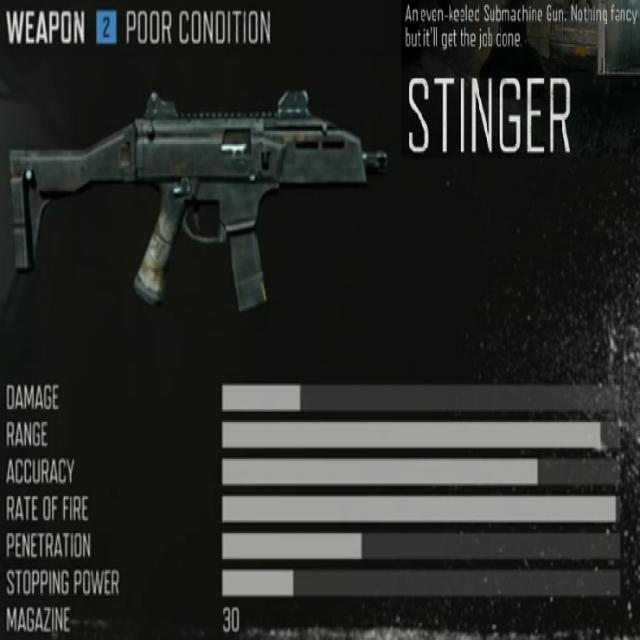smg: (1, 76, 397, 325)
